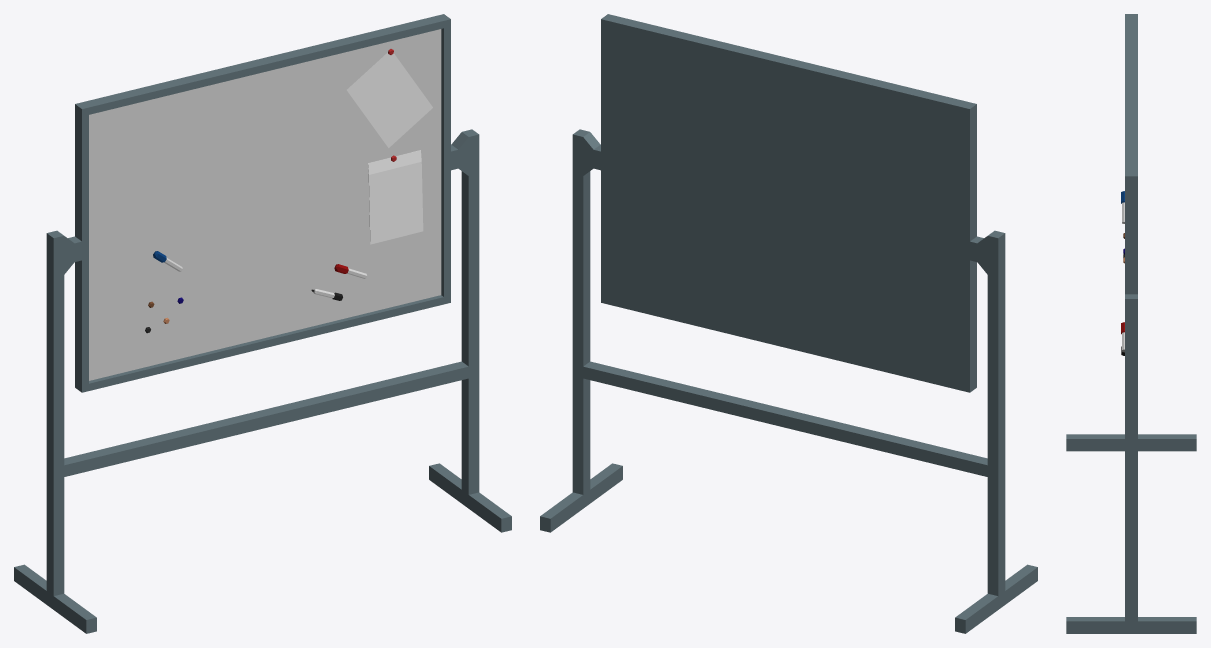
The model's file is BoardV3.fbx.
3 views of the same model, side by side, from view 1: azimuth 30°, elevation 25°; view 2: azimuth 150°, elevation 25°; view 3: azimuth 270°, elevation 25° (orthographic). The views are drawn at different scales.
Parts seen in each view (by area): view 1: BoardV3_Board, BoardV3; view 2: BoardV3_Board, BoardV3; view 3: BoardV3, BoardV3_Board.
Boxes of the visible parts, x1,y1,x2,y2 form: BoardV3_Board: [75, 14, 450, 392]; BoardV3: [14, 129, 511, 633]; BoardV3_Board: [601, 14, 976, 392]; BoardV3: [540, 129, 1037, 633]; BoardV3: [1066, 294, 1196, 633]; BoardV3_Board: [1121, 14, 1137, 355].
Size of the model in its own units: 136 by 151 by 39.97.
